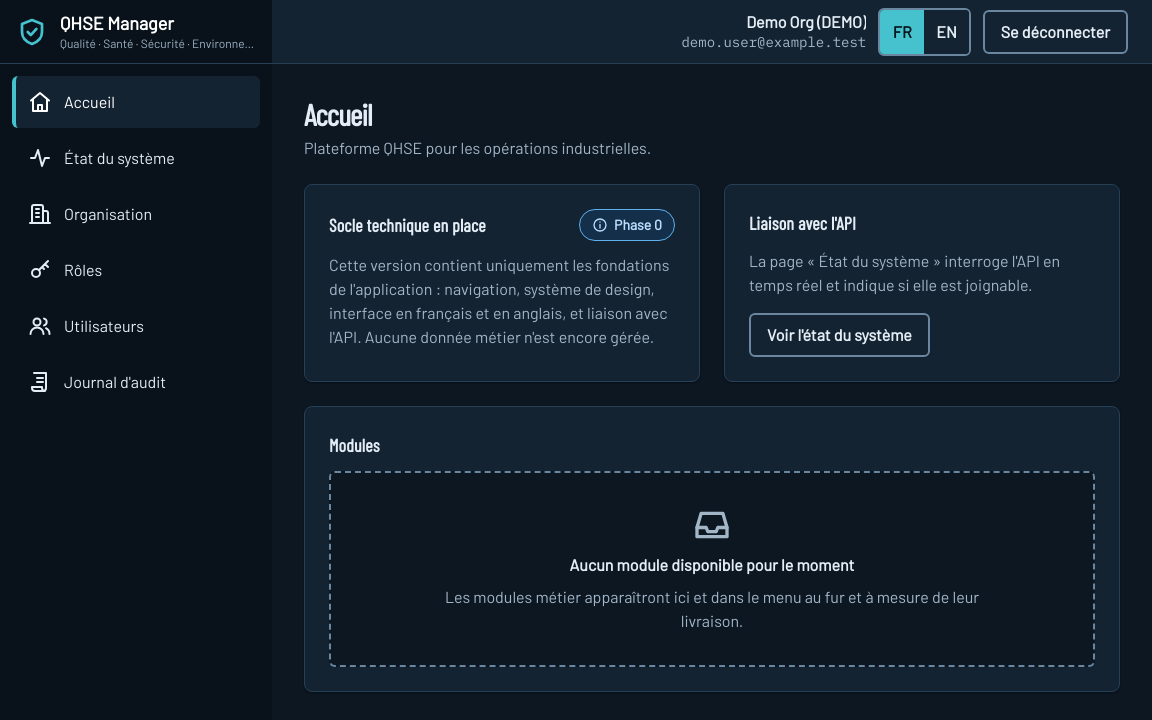
language switching › renders French by default and switches every visible text and <html lang> to English
This screenshot has width=1152, height=720.
Expected: the heading "Accueil" is shown, [304, 96, 372, 132]
Expected: the heading "Socle technique en place" is shown, [329, 211, 486, 239]
Click the button with aria-label "English": (947, 32) [924, 10, 969, 54]
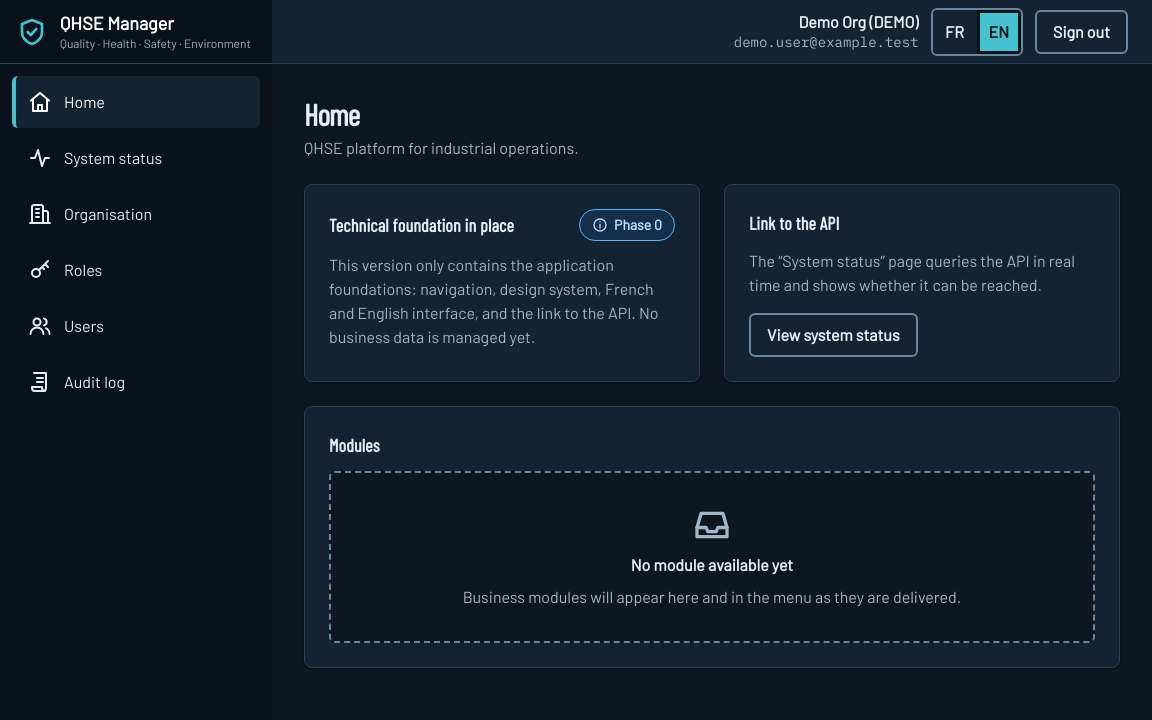
Now the heading "Home" is shown, box [304, 96, 359, 132]
Now the heading "Technical foundation in place" is shown, box [329, 211, 514, 239]
Now the heading "Socle technique en place" is gone
